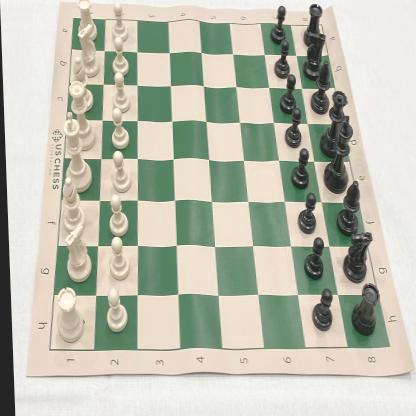black-bishop: (331, 180, 360, 236), (309, 61, 330, 113)
black-king: (321, 115, 355, 192)
black-knight: (340, 230, 372, 284), (302, 28, 327, 80)
black-pawn: (309, 284, 332, 332), (300, 237, 324, 281), (288, 147, 310, 189), (295, 192, 316, 234), (283, 108, 302, 150), (272, 39, 291, 79), (278, 74, 297, 114), (270, 4, 288, 45)
black-queen: (318, 90, 348, 156)
black-rook: (348, 282, 379, 338), (302, 2, 324, 50)
white-bishop: (58, 176, 84, 232), (71, 55, 93, 112)
white-king: (61, 112, 91, 193)
white-knight: (61, 224, 91, 284), (75, 24, 101, 78)
white-pawn: (102, 288, 127, 334), (106, 193, 128, 237), (106, 237, 128, 281), (110, 150, 131, 192), (108, 108, 128, 148), (110, 2, 129, 42), (110, 37, 129, 76), (110, 72, 128, 113)
white-queen: (67, 81, 95, 152)
white-rook: (52, 286, 82, 342), (77, 0, 98, 42)
